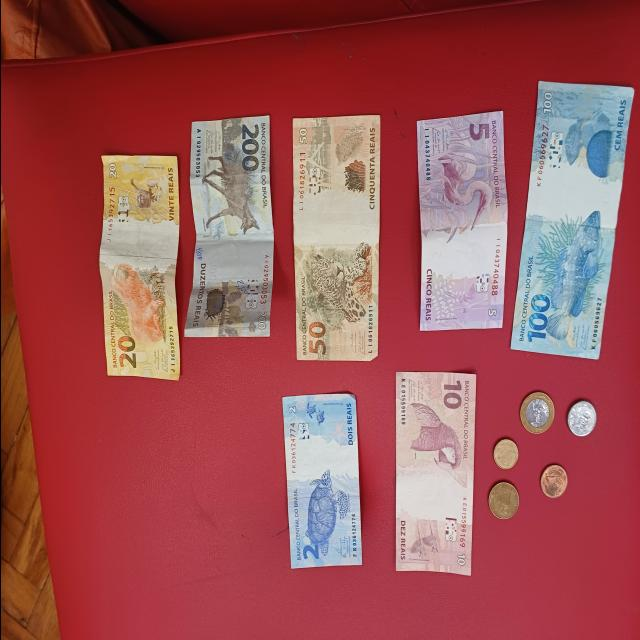1 real: (516, 388, 556, 438)
25 cents: (484, 480, 522, 522)
50 cents: (566, 398, 598, 440)
